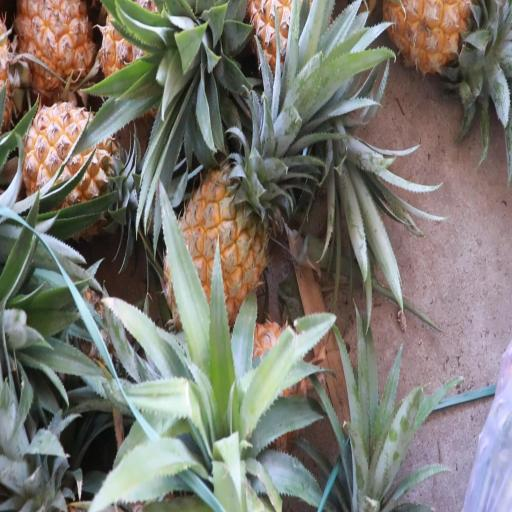Pineapple - v8 v1: (160, 152, 275, 345), (21, 95, 127, 246), (9, 0, 101, 115), (380, 0, 486, 89)
